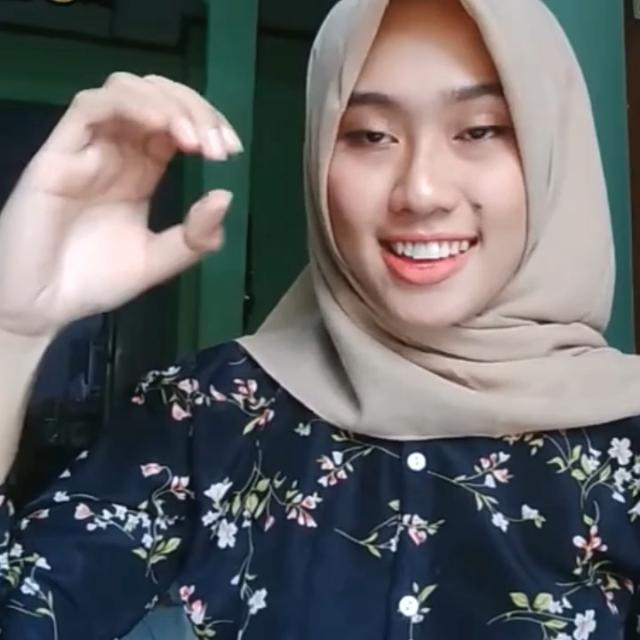C: (1, 66, 246, 326)
